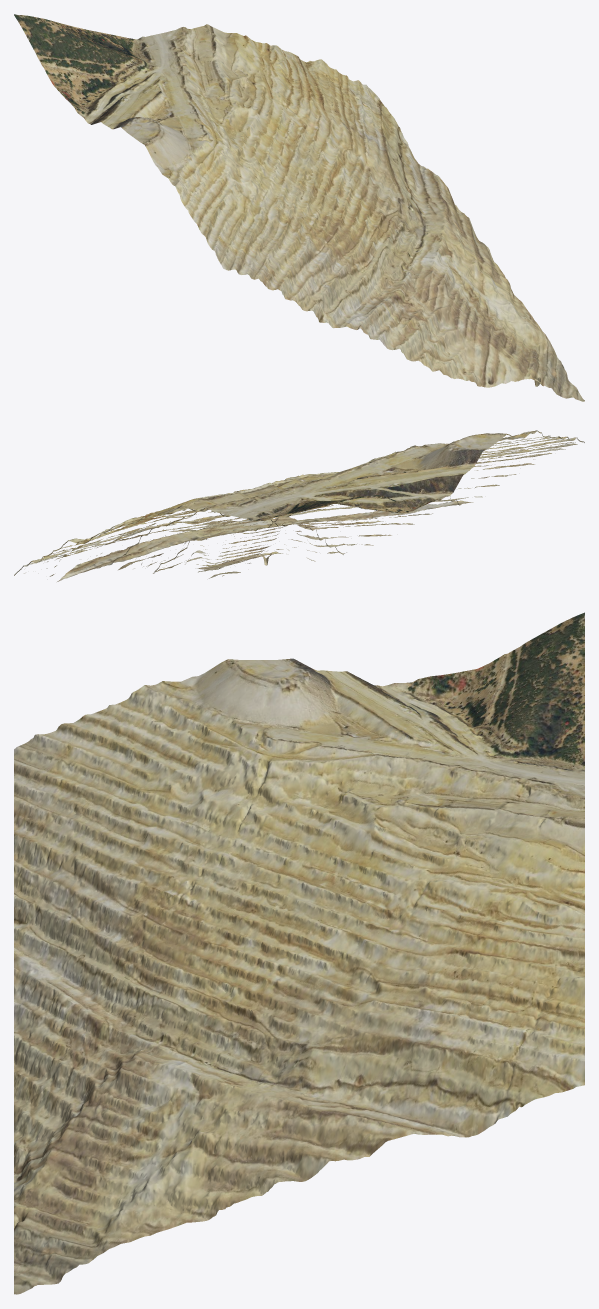
3 views of the same model, one above another, from view 1: azimuth 30°, elevation 25°; view 2: azimuth 150°, elevation 25°; view 3: azimuth 270°, elevation 25° (orthographic). The views are drawn at different scales.
Visible parts, largest first — view 1: l2-0-2; view 2: l2-0-2; view 3: l2-0-2.
Boxes of the visible parts, x1=… form: l2-0-2: x1=14, y1=14, x2=584, y2=401; l2-0-2: x1=14, y1=430, x2=584, y2=581; l2-0-2: x1=14, y1=612, x2=584, y2=1294.
Bounding box in the file's own units: 768 × 654 × 768.
Materials: 1 (1 with a texture image).
